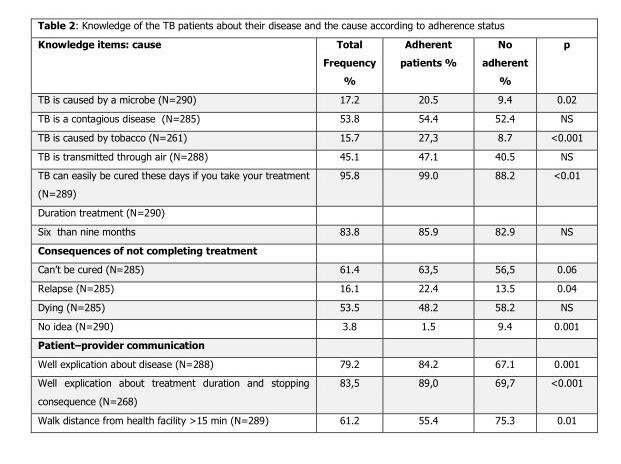table: (37, 36, 582, 425)
table column: (37, 36, 315, 425), (387, 36, 468, 425), (315, 36, 387, 425), (468, 36, 538, 425), (538, 36, 582, 425)
table column header: (37, 36, 582, 89)
table projected row header: (37, 239, 582, 258), (37, 334, 582, 353), (37, 202, 582, 220)
table row: (37, 36, 582, 89), (37, 164, 582, 202), (37, 372, 582, 409), (37, 89, 582, 108), (37, 126, 582, 145), (37, 145, 582, 164), (37, 220, 582, 239), (37, 239, 582, 258), (37, 258, 582, 277), (37, 277, 582, 296), (37, 296, 582, 315), (37, 315, 582, 334), (37, 334, 582, 353), (37, 353, 582, 372), (37, 108, 582, 126), (37, 202, 582, 220), (37, 409, 582, 425)
